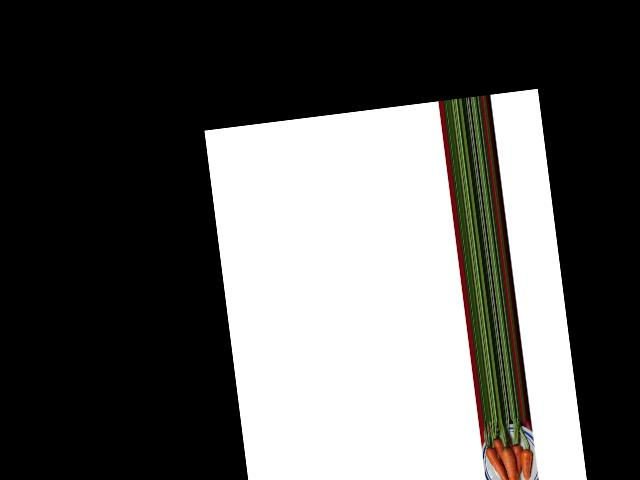carrot: (517, 445, 537, 480)
